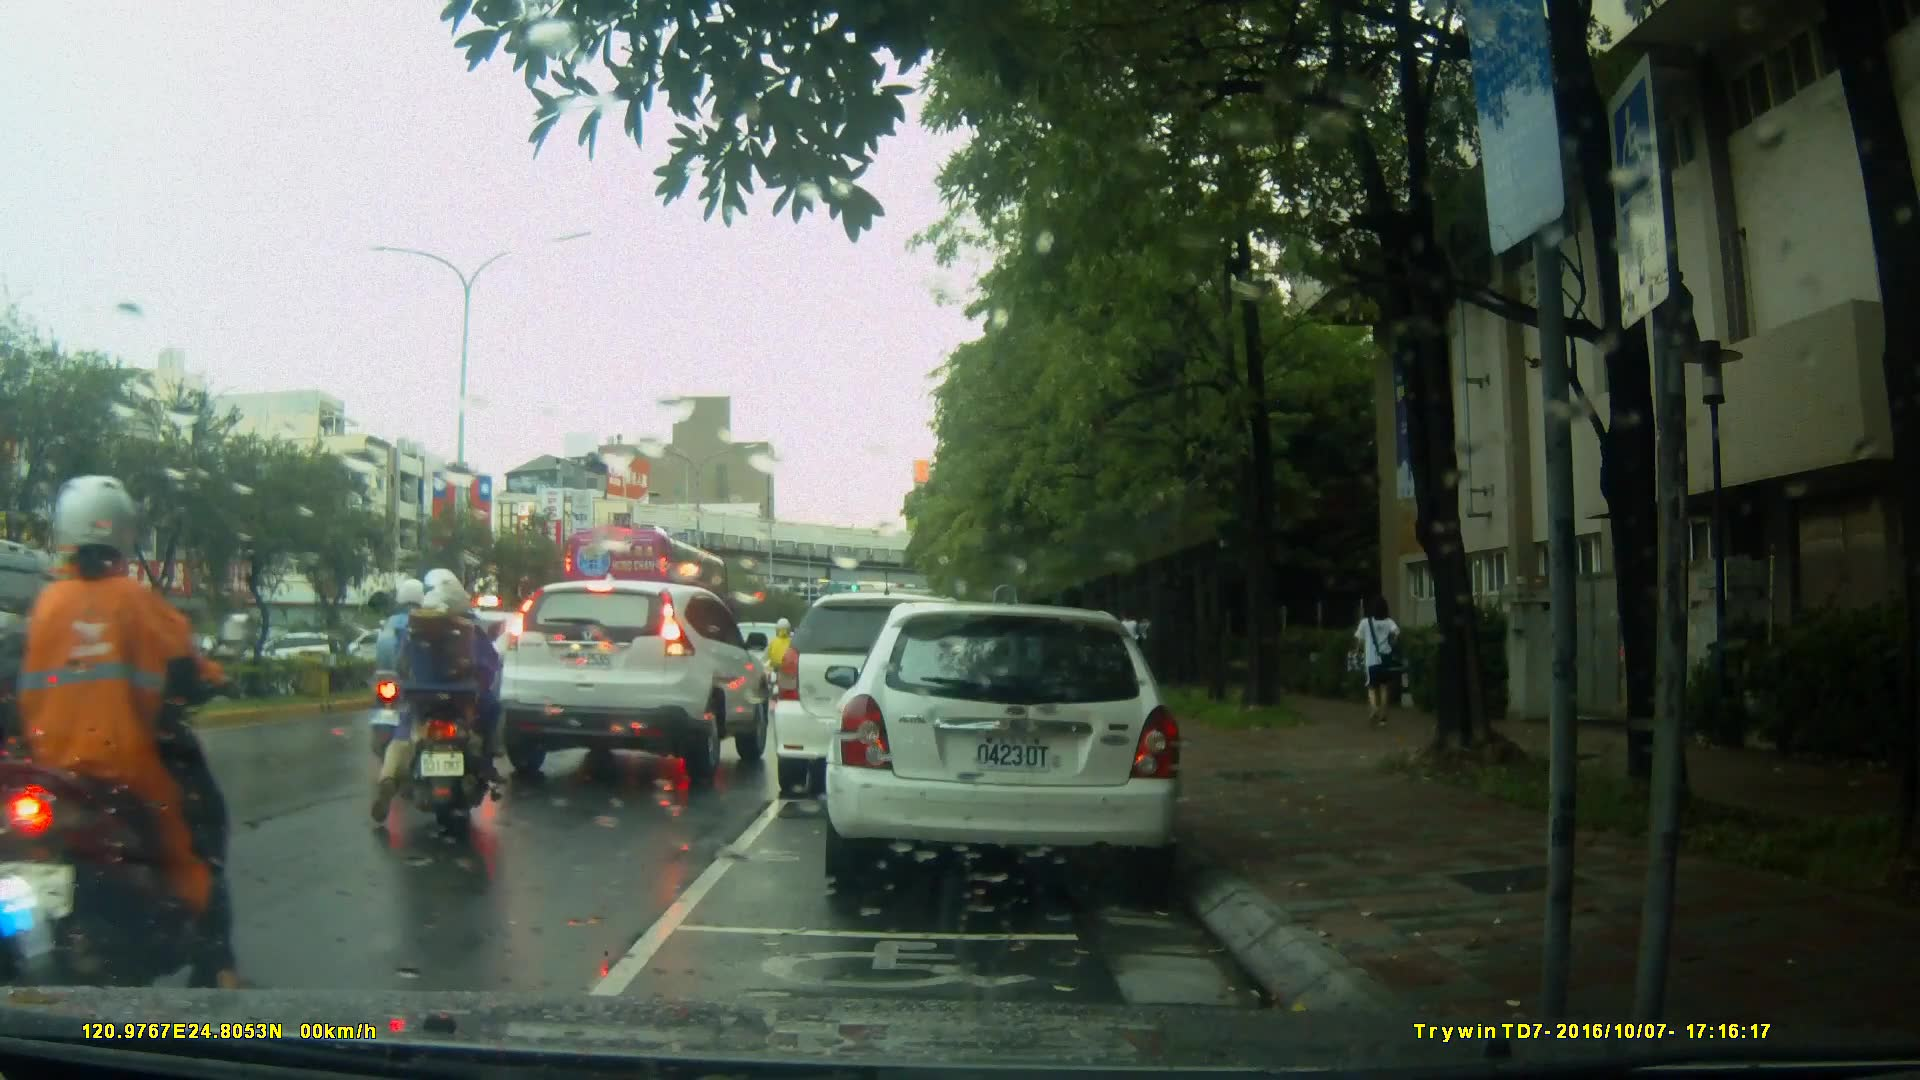pedestrian: (1342, 585, 1408, 745), (1117, 602, 1152, 689)
rider: (1, 473, 274, 1017), (367, 570, 517, 831), (362, 583, 443, 786), (766, 614, 797, 712)
vehicle: (835, 594, 1194, 898), (493, 581, 779, 784), (776, 590, 1026, 784), (558, 525, 732, 636)
